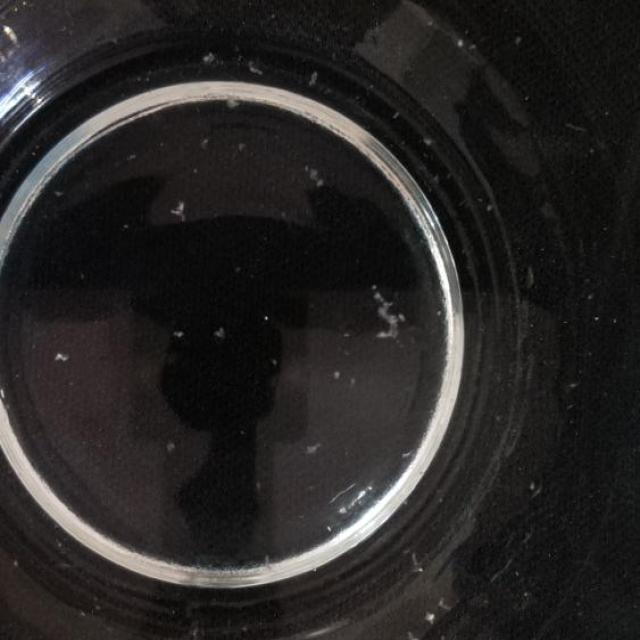fiber: (361, 277, 406, 342), (164, 188, 191, 224), (405, 544, 432, 580), (301, 162, 331, 193), (435, 594, 456, 618), (52, 347, 74, 368), (207, 324, 227, 347), (306, 66, 323, 93), (164, 434, 180, 459), (247, 56, 267, 75), (305, 440, 324, 460), (168, 325, 186, 346), (424, 604, 438, 630), (224, 92, 243, 111), (345, 376, 365, 394), (200, 45, 216, 66), (405, 622, 424, 639), (330, 363, 342, 384)
